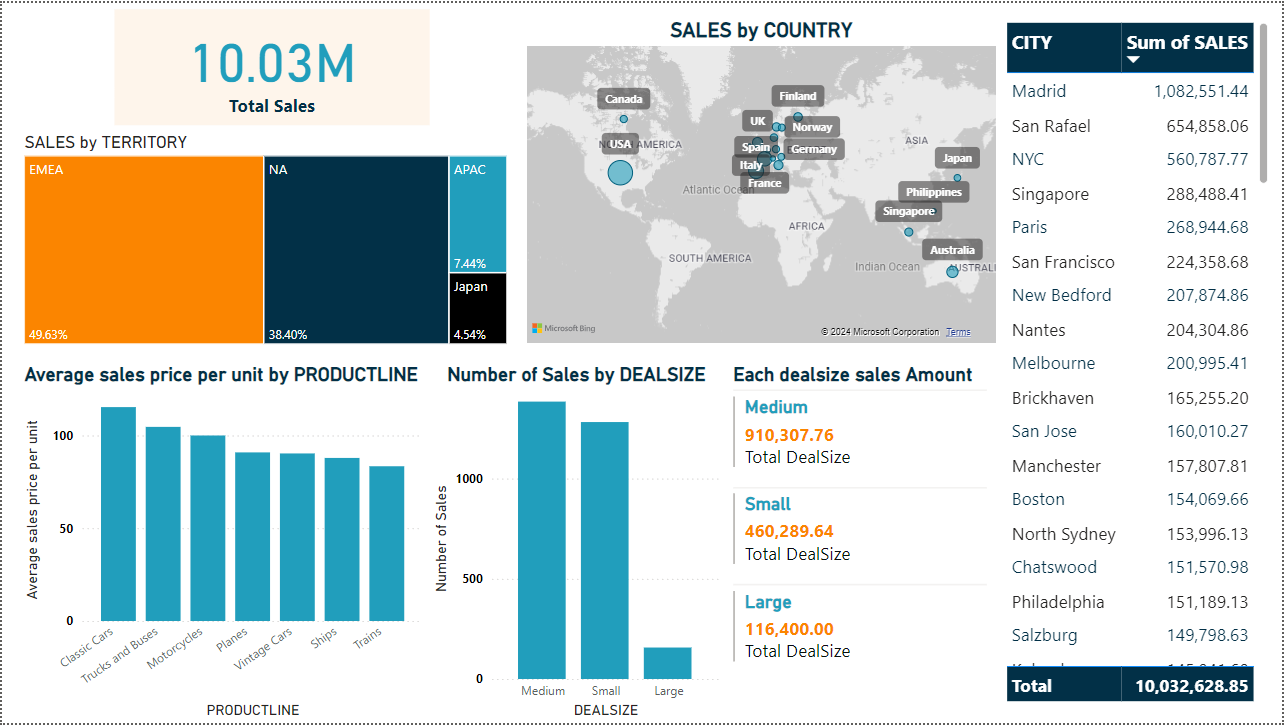

Layout of this report page (visuals, bound fields, positions):
{"tool":"powerbi","page":{"name":"Report 2","canvas":[1280,720],"ordinal":1},"visuals":[{"type":"map","fields":{"Category":["sales_data_sample.COUNTRY"],"Size":["Sum(sales_data_sample.SALES)"]},"box":[520,15,478.8,330],"z":0},{"type":"card","fields":{"Values":["Sum(sales_data_sample.SALES)"]},"box":[112.5,6.2,315,116.2],"z":1000},{"type":"tableEx","fields":{"Values":["sales_data_sample.CITY","sales_data_sample.SALES"]},"box":[998.3,14.6,272.2,688.3],"z":2000},{"type":"columnChart","fields":{"Y":["sales_data_sample.SalesCount"],"Category":["sales_data_sample.DEALSIZE"]},"box":[426.2,360,296.2,360],"z":3000},{"type":"multiRowCard","title":"Each dealsize sales Amount","fields":{"Values":["sales_data_sample.Total DealSize","sales_data_sample.DEALSIZE"]},"box":[731.2,360,258.8,343.8],"z":4000},{"type":"columnChart","fields":{"Category":["sales_data_sample.PRODUCTLINE"],"Y":["sales_data_sample.avg sales price per unit"]},"box":[17.5,360,408.8,360],"z":5000},{"type":"treemap","fields":{"Group":["sales_data_sample.TERRITORY"],"Values":["CountNonNull(sales_data_sample.SALES)"]},"box":[17.5,128.8,492.5,217.5],"z":6000}]}

Visuals, with their boxes in screenshot pixels (x1, y1, x2, y2), scaled from the page's 1280x720 canvas onto the 1285x727 screenshot:
map - sales_data_sample.COUNTRY x Sum(sales_data_sample.SALES): 522, 15, 1003, 348
card - Sum(sales_data_sample.SALES): 113, 6, 429, 124
tableEx - sales_data_sample.CITY x sales_data_sample.SALES: 1002, 15, 1275, 710
columnChart - sales_data_sample.SalesCount x sales_data_sample.DEALSIZE: 428, 364, 725, 726
"Each dealsize sales Amount" multiRowCard: 734, 364, 994, 711
columnChart - sales_data_sample.PRODUCTLINE x sales_data_sample.avg sales price per unit: 18, 364, 428, 726
treemap - sales_data_sample.TERRITORY x CountNonNull(sales_data_sample.SALES): 18, 130, 512, 350
